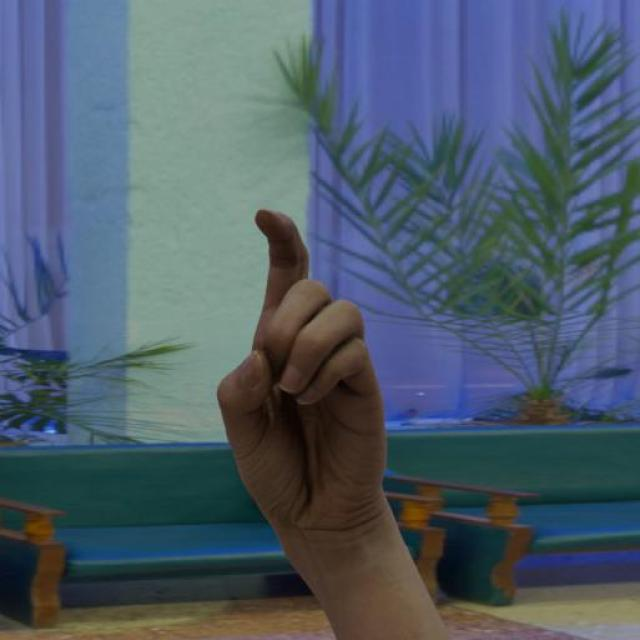X: (210, 203, 392, 535)
